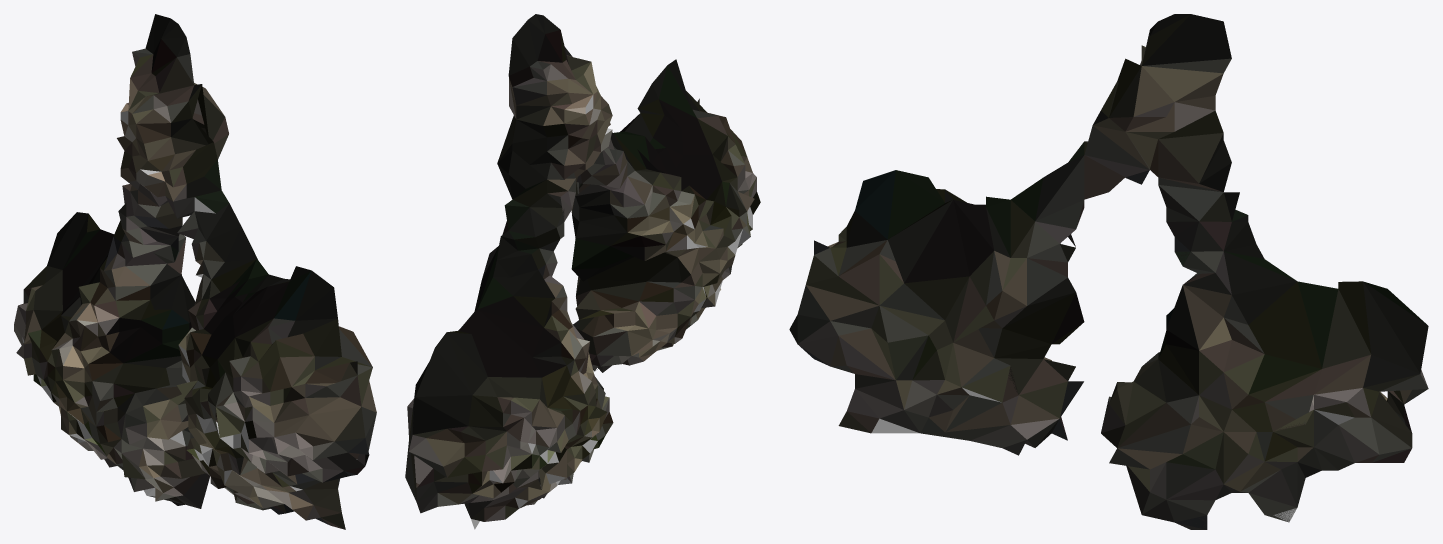
File: B03_4_necrotic_twin_mauls.obj
3 views of the same model, side by side, from view 1: azimuth 30°, elevation 25°; view 2: azimuth 150°, elevation 25°; view 3: azimuth 270°, elevation 25° (orthographic). The views are drawn at different scales.
Parts seen in each view (by area): view 1: B03_4_necrotic_twin_mauls; view 2: B03_4_necrotic_twin_mauls; view 3: B03_4_necrotic_twin_mauls.
Boxes of the visible parts, x1,y1,x2,y2 form: B03_4_necrotic_twin_mauls: [14, 14, 376, 529]; B03_4_necrotic_twin_mauls: [405, 14, 760, 529]; B03_4_necrotic_twin_mauls: [789, 14, 1428, 529].
Bounding box in the file's own units: 20 × 69 × 78.
